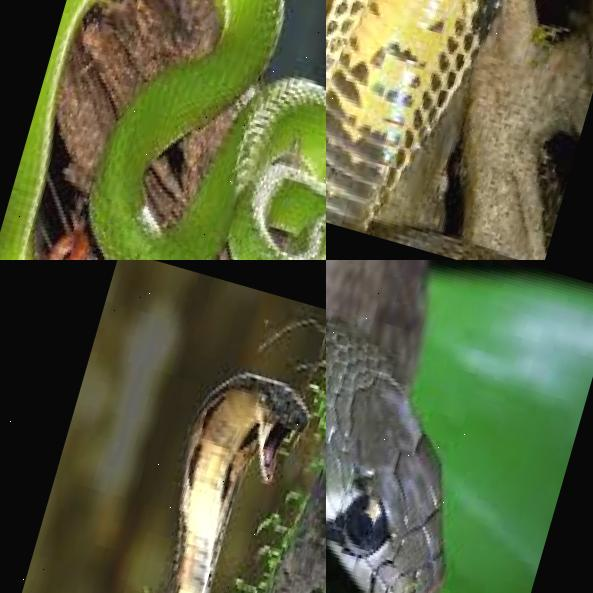snake: (0, 0, 326, 260), (326, 260, 568, 593), (41, 313, 326, 593), (326, 0, 593, 260)
